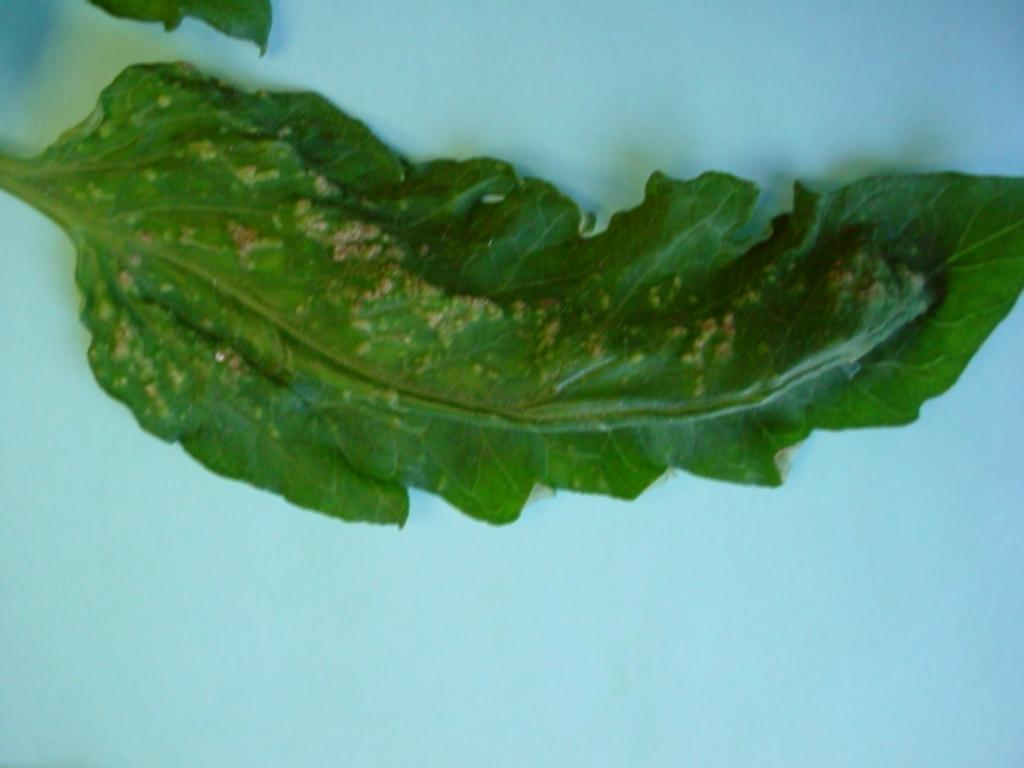Tomato mold leaf: (1, 44, 1017, 580)
